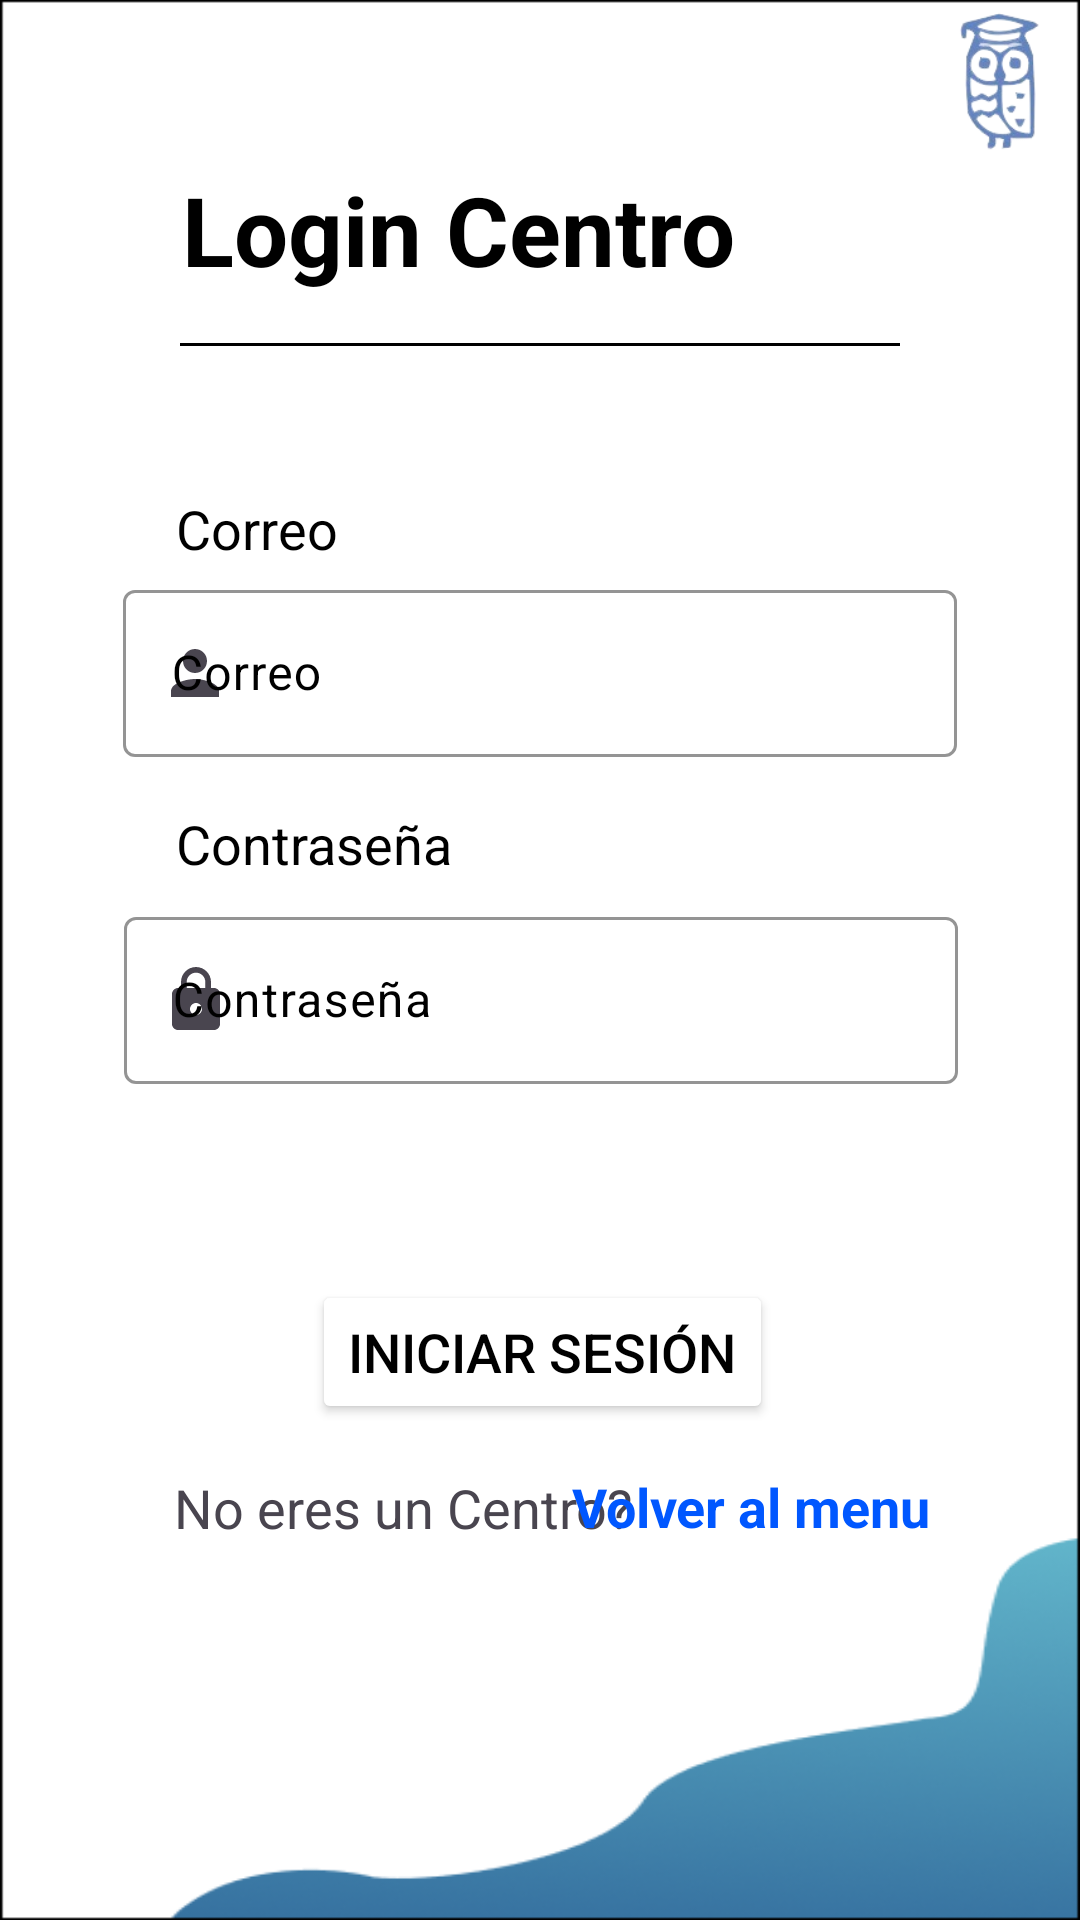

Named icons in this screenshot (1080×1920) and their centers, [x,y]:
buho: [999,81]
